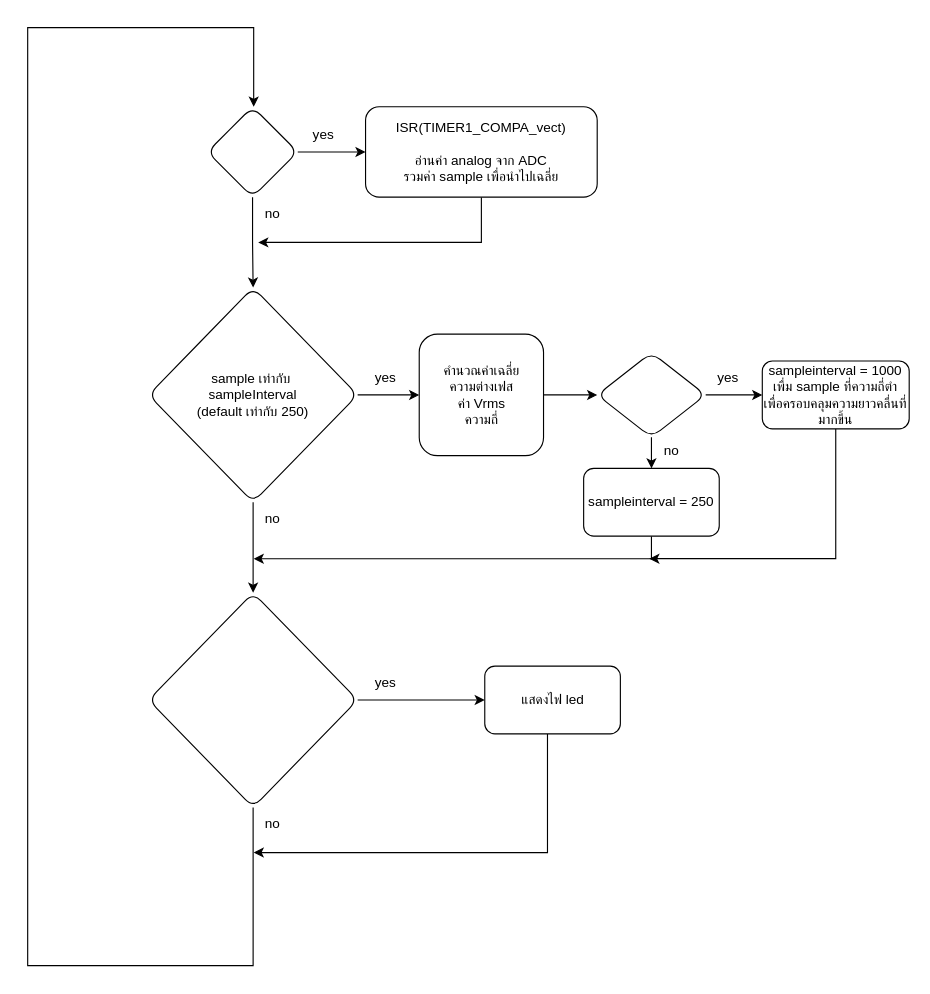
This 930x994 diagram has some shape labels left out. Each missing label, with the centre of its shape:
"ครบ 1 ms" goes at point (252, 151).
"ความถี่่ตำกว่า 30 Hz" goes at point (651, 394).
"ถ้าเงื่อนไขการซิงค์ ใกล้เคียงกัน" goes at point (252, 699).
